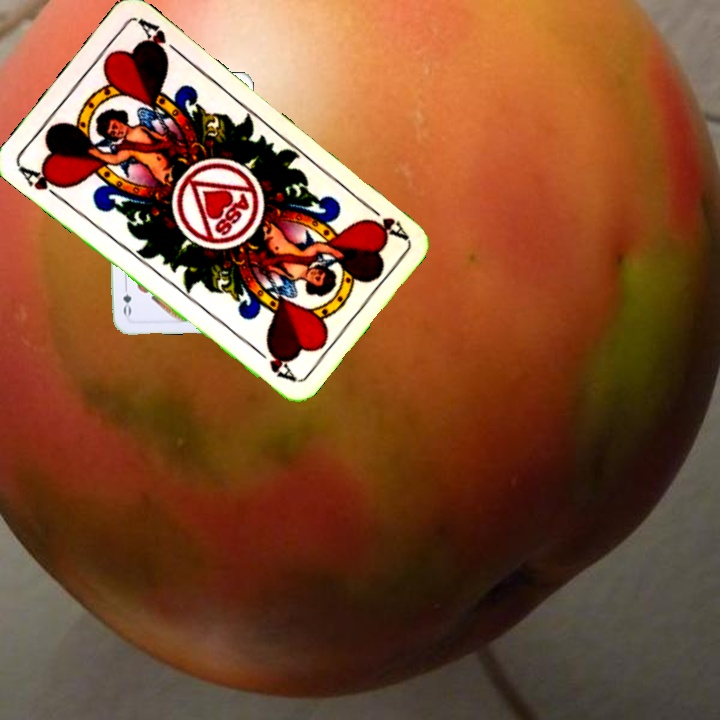HA: (358, 197, 410, 242), (14, 162, 68, 204)
